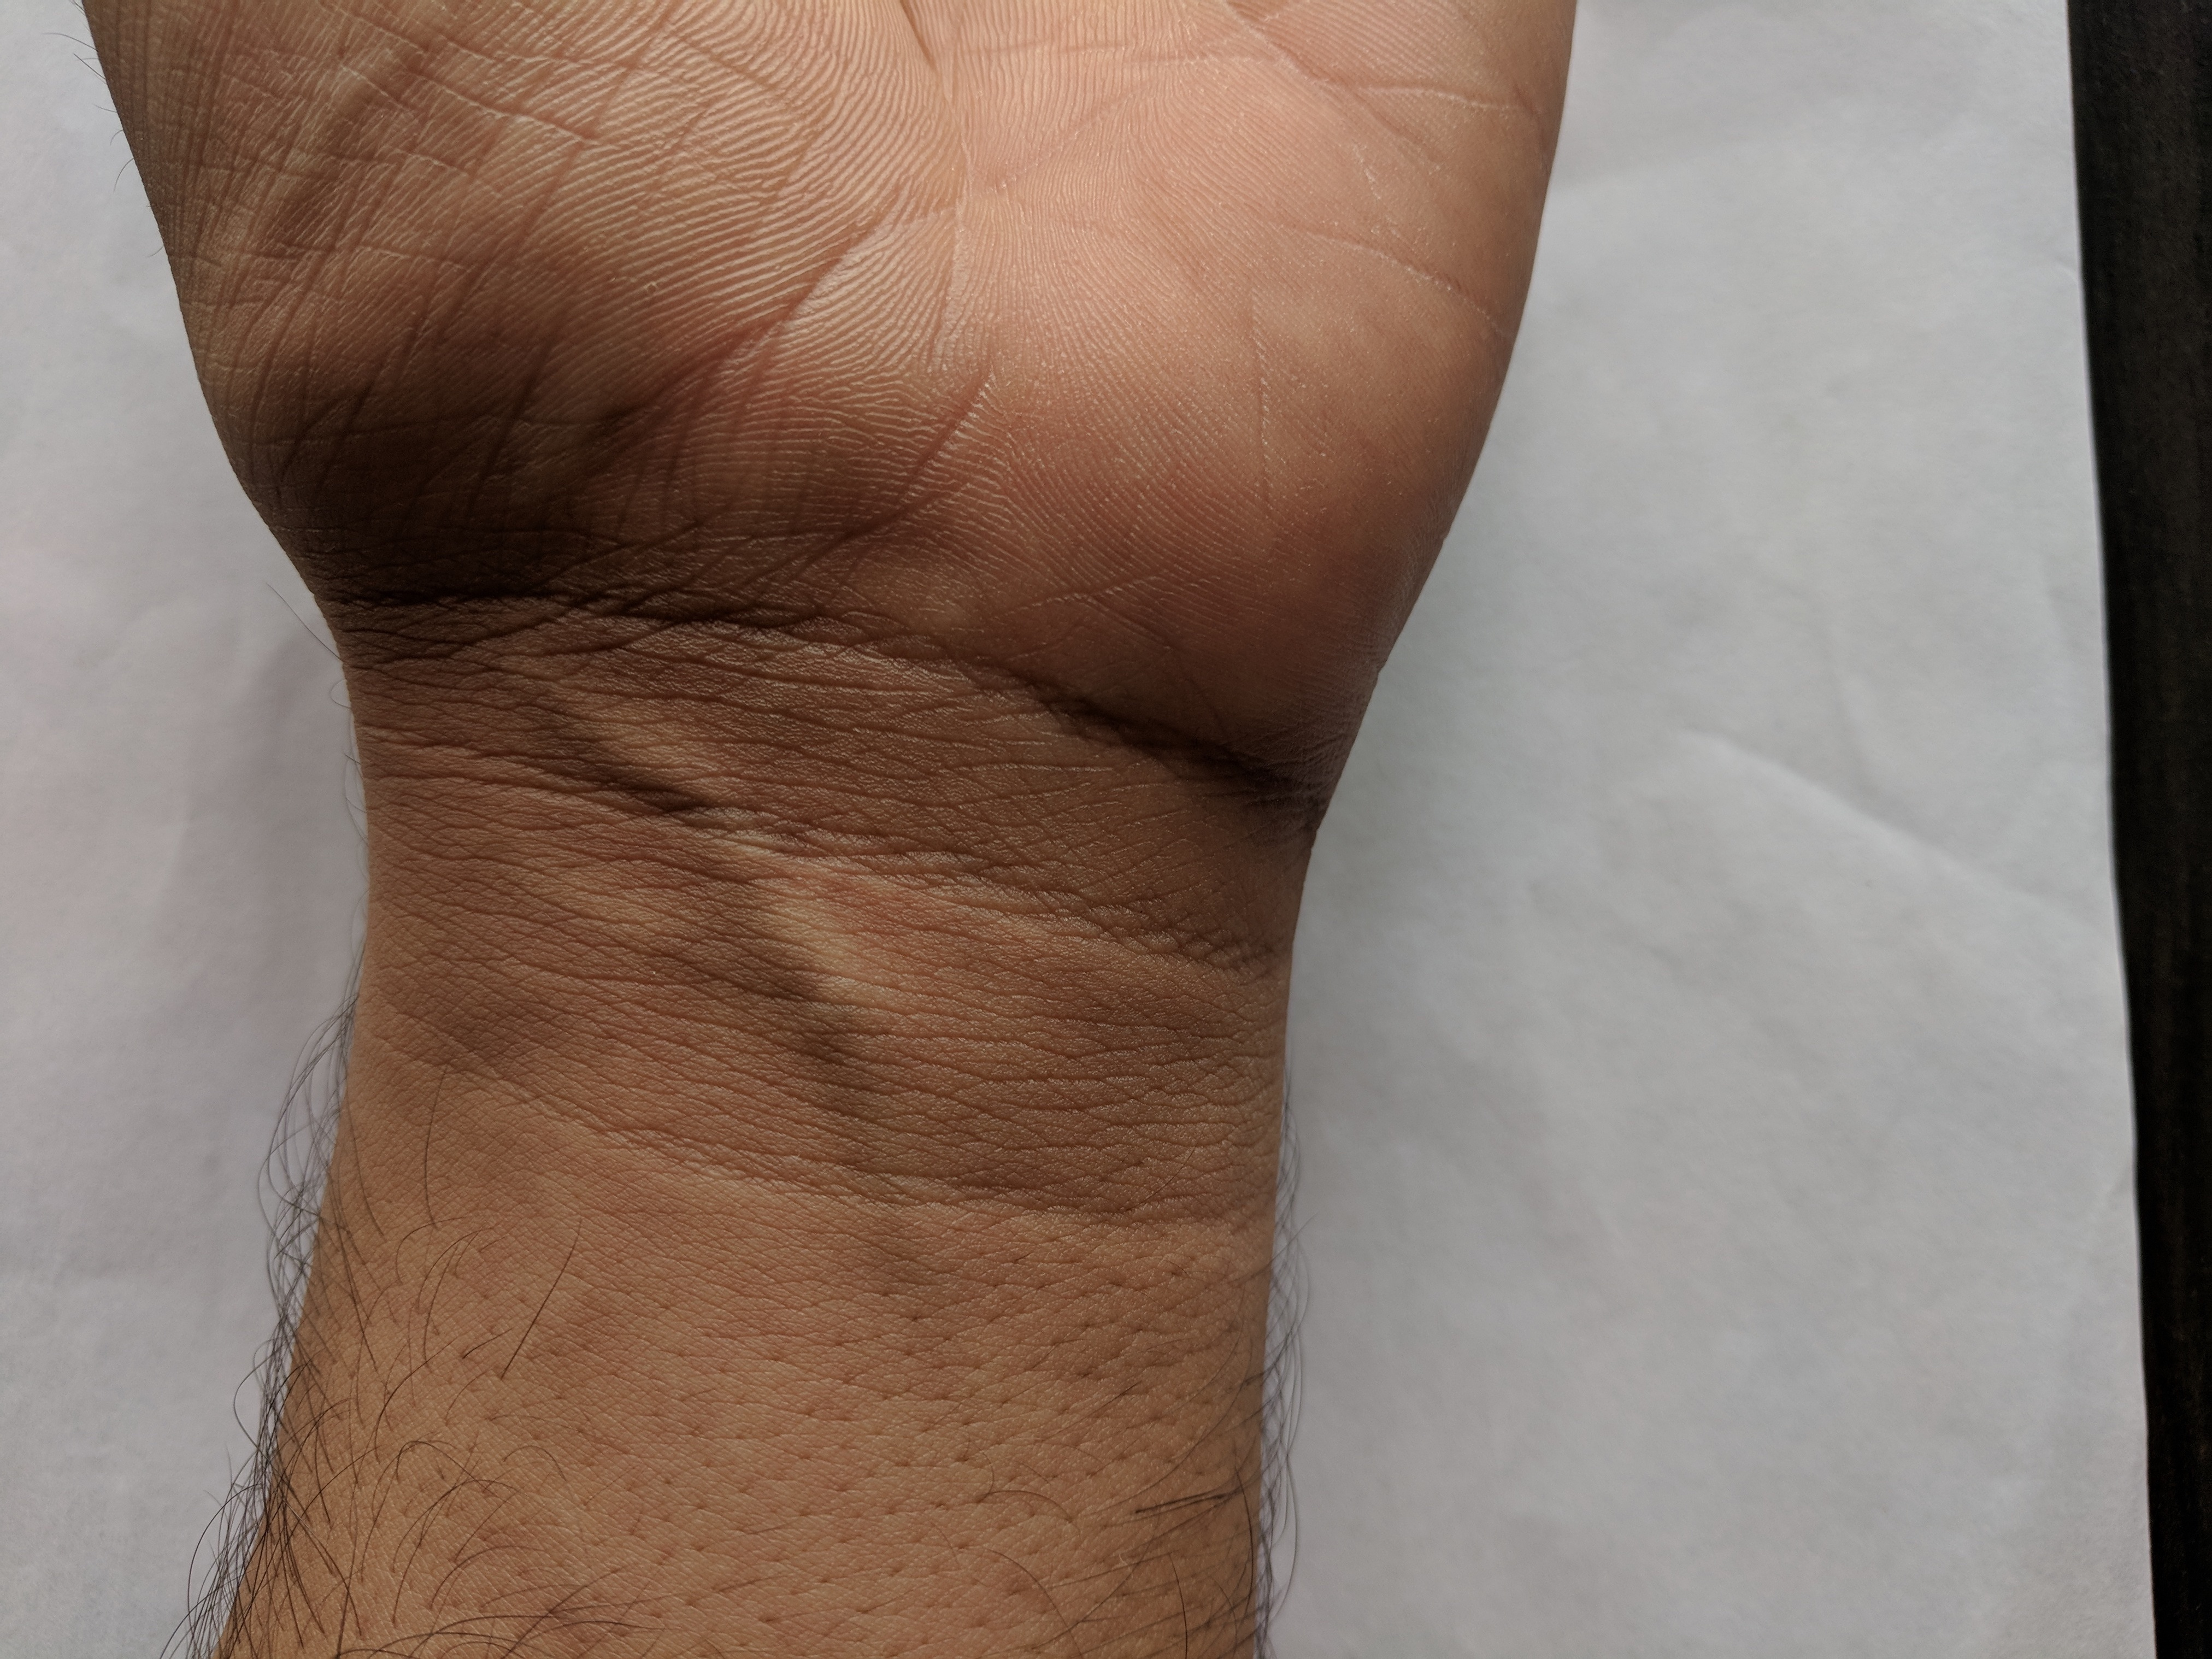lefthandwrist: (268, 523, 1345, 946)
